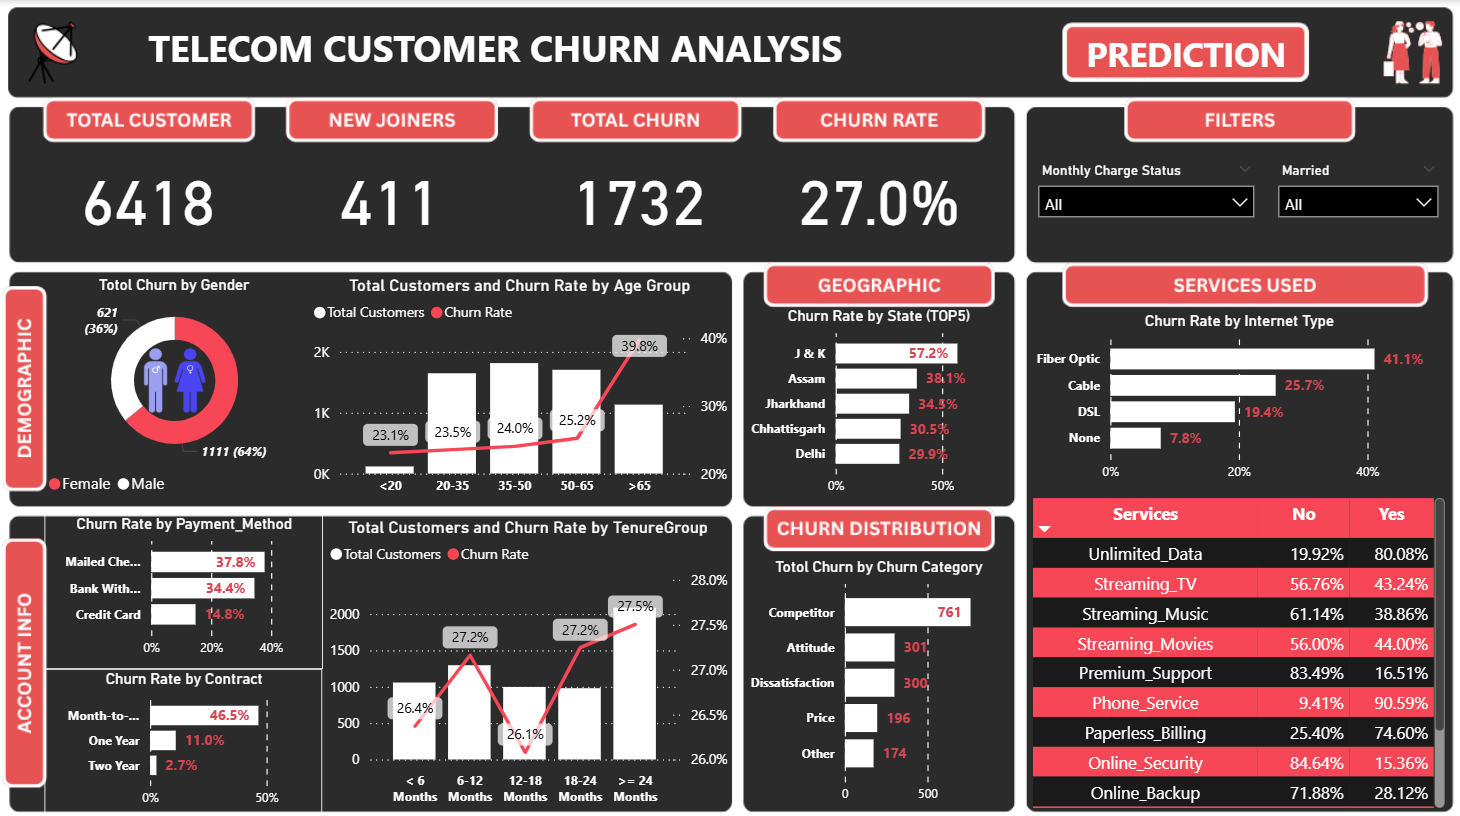

This screenshot's page, from the dashboard's own definition file:
{"tool":"powerbi","page":{"name":"Dashboard ","canvas":[1280,720],"ordinal":0},"visuals":[{"type":"card","fields":{"Values":["Z_Measures.Total Customers"]},"box":[37.9,110.5,184.7,116.6],"z":0},{"type":"card","fields":{"Values":["Z_Measures.New Joiners"]},"box":[250.2,110.7,182.6,116.5],"z":1000},{"type":"card","fields":{"Values":["Z_Measures.Totol Churn"]},"box":[464.9,110.5,184.7,118.1],"z":2000},{"type":"card","fields":{"Values":["Z_Measures.Churn Rate"]},"box":[673.8,110.5,187.8,116.6],"z":3000},{"type":"donutChart","fields":{"Category":["prod_Churn.Gender"],"Y":["Z_Measures.Totol Churn"]},"box":[37.9,240.6,231.4,200.1],"z":4000},{"type":"lineStackedColumnComboChart","fields":{"Y":["Z_Measures.Total Customers"],"Y2":["Z_Measures.Churn Rate"],"Category":["Mapping_ageGRp.Age Group"]},"box":[269.5,240.8,371,199.9],"z":5000},{"type":"clusteredBarChart","fields":{"Category":["prod_Churn.Payment_Method"],"Y":["Z_Measures.Churn Rate"]},"box":[41,448.7,242.3,134.3],"z":6000},{"type":"clusteredBarChart","fields":{"Category":["prod_Churn.Contract"],"Y":["Z_Measures.Churn Rate"]},"box":[41.1,583.3,242.2,130.4],"z":7000},{"type":"lineStackedColumnComboChart","fields":{"Category":["Mapping_tenureGRP.TenureGroup"],"Y":["Z_Measures.Total Customers"],"Y2":["Z_Measures.Churn Rate"]},"box":[283.7,451.1,357,257.6],"z":8000},{"type":"barChart","title":"Churn Rate by State (TOP5)","fields":{"Category":["prod_Churn.State"],"Y":["Z_Measures.Churn Rate"]},"box":[650,267.5,235.9,172.6],"z":9000},{"type":"barChart","title":"Totol Churn by Churn Category","fields":{"Category":["prod_Churn.Churn_Category"],"Y":["Z_Measures.Totol Churn"]},"box":[649.6,486.1,236.2,222.6],"z":10000},{"type":"barChart","title":"Churn Rate by Internet Type","fields":{"Category":["prod_Churn.Internet_Type"],"Y":["Z_Measures.Churn Rate"]},"box":[897.9,272.6,368,156],"z":11000},{"type":"pivotTable","fields":{"Rows":["prod_Services.Services"],"Columns":["prod_Services.Status"],"Values":["Sum(prod_Services.Churn Status)"]},"box":[897.3,429.1,369.1,280],"z":12000},{"type":"slicer","fields":{"Values":["prod_Churn.Monthly Charge Status "]},"box":[897.5,135.6,208.1,91.9],"z":13000},{"type":"slicer","fields":{"Values":["prod_Churn.Married"]},"box":[1105.6,135.6,159.4,93.1],"z":14000},{"type":"actionButton","box":[927.7,14.1,215,58.6],"z":15000},{"type":"textbox","box":[94.9,14.4,675.9,59],"z":16000},{"type":"image","box":[110,288.8,88.1,83.1],"z":16001}]}

Visuals, with their boxes in screenshot pixels (x1, y1, x2, y2), scaled from the page's 1280x720 canvas onto the 1460x816 screenshot:
card - Z_Measures.Total Customers: box(43, 125, 254, 257)
card - Z_Measures.New Joiners: box(285, 125, 494, 257)
card - Z_Measures.Totol Churn: box(530, 125, 741, 259)
card - Z_Measures.Churn Rate: box(769, 125, 983, 257)
donutChart - prod_Churn.Gender x Z_Measures.Totol Churn: box(43, 273, 307, 499)
lineStackedColumnComboChart - Z_Measures.Total Customers x Z_Measures.Churn Rate: box(307, 273, 731, 499)
clusteredBarChart - prod_Churn.Payment_Method x Z_Measures.Churn Rate: box(47, 509, 323, 661)
clusteredBarChart - prod_Churn.Contract x Z_Measures.Churn Rate: box(47, 661, 323, 809)
lineStackedColumnComboChart - Mapping_tenureGRP.TenureGroup x Z_Measures.Total Customers: box(324, 511, 731, 803)
"Churn Rate by State (TOP5)" barChart: box(741, 303, 1010, 499)
"Totol Churn by Churn Category" barChart: box(741, 551, 1010, 803)
"Churn Rate by Internet Type" barChart: box(1024, 309, 1444, 486)
pivotTable - prod_Services.Services x prod_Services.Status: box(1023, 486, 1444, 804)
slicer - prod_Churn.Monthly Charge Status : box(1024, 154, 1261, 258)
slicer - prod_Churn.Married: box(1261, 154, 1443, 259)
actionButton: box(1058, 16, 1303, 82)
textbox: box(108, 16, 879, 83)
image: box(125, 327, 226, 421)
